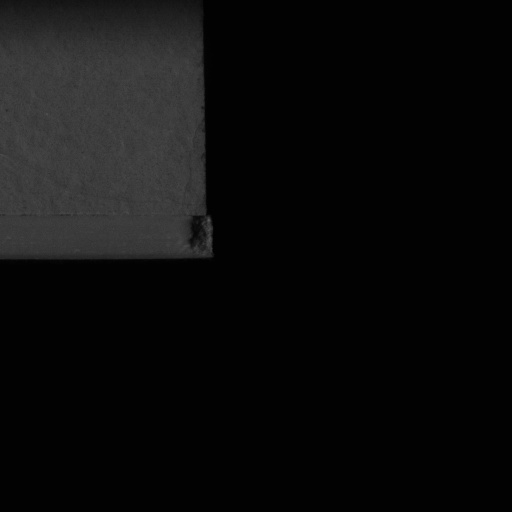bengque: (185, 210, 212, 256)
